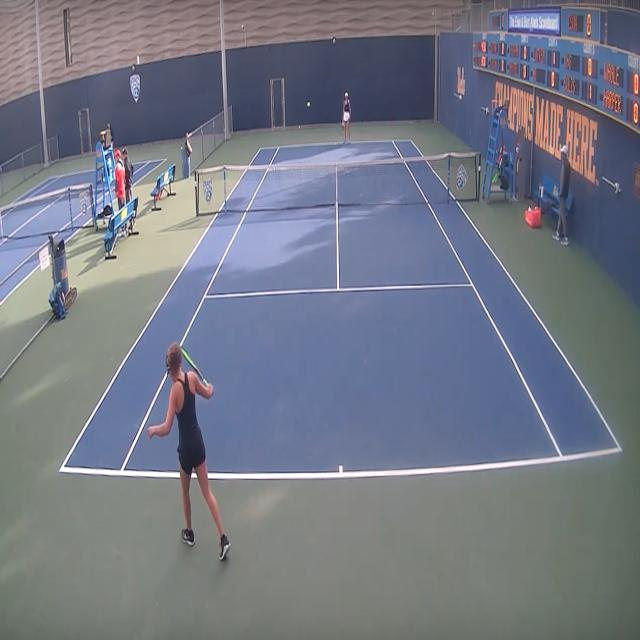ball: (307, 99, 311, 108)
